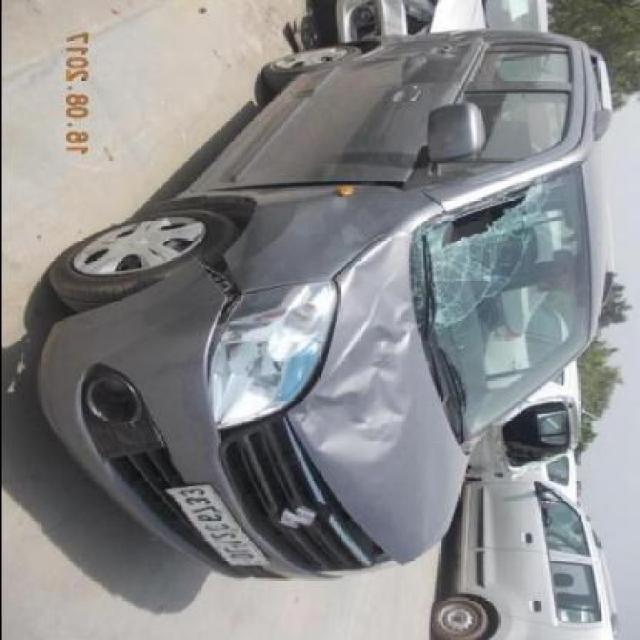damage: (292, 233, 414, 461), (407, 174, 547, 334), (281, 411, 401, 562), (188, 254, 243, 369), (197, 177, 401, 194)
